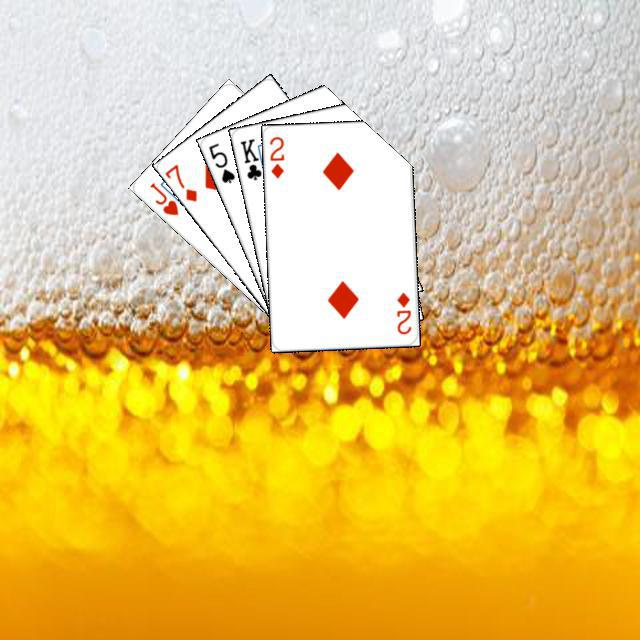2d: (265, 132, 286, 180), (392, 288, 413, 336)
5s: (204, 138, 236, 185)
7d: (161, 159, 199, 204)
Jh: (145, 177, 180, 217)
Kc: (235, 133, 268, 184)
